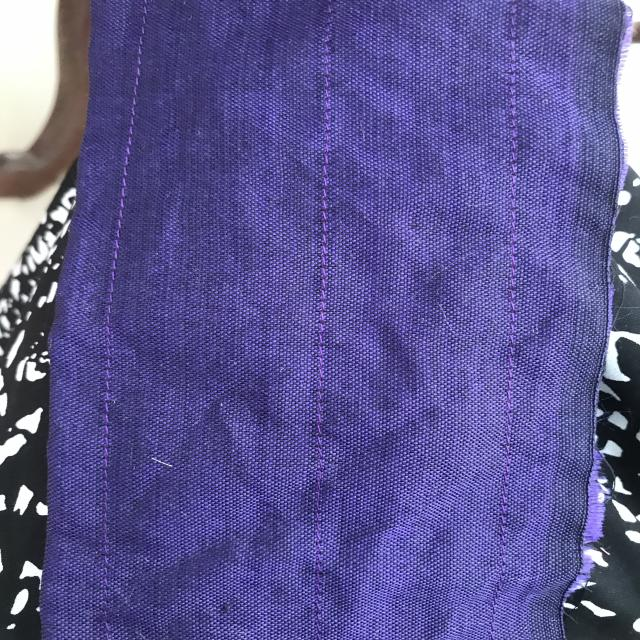good: (100, 158, 138, 283), (124, 26, 150, 153), (99, 318, 123, 453)
